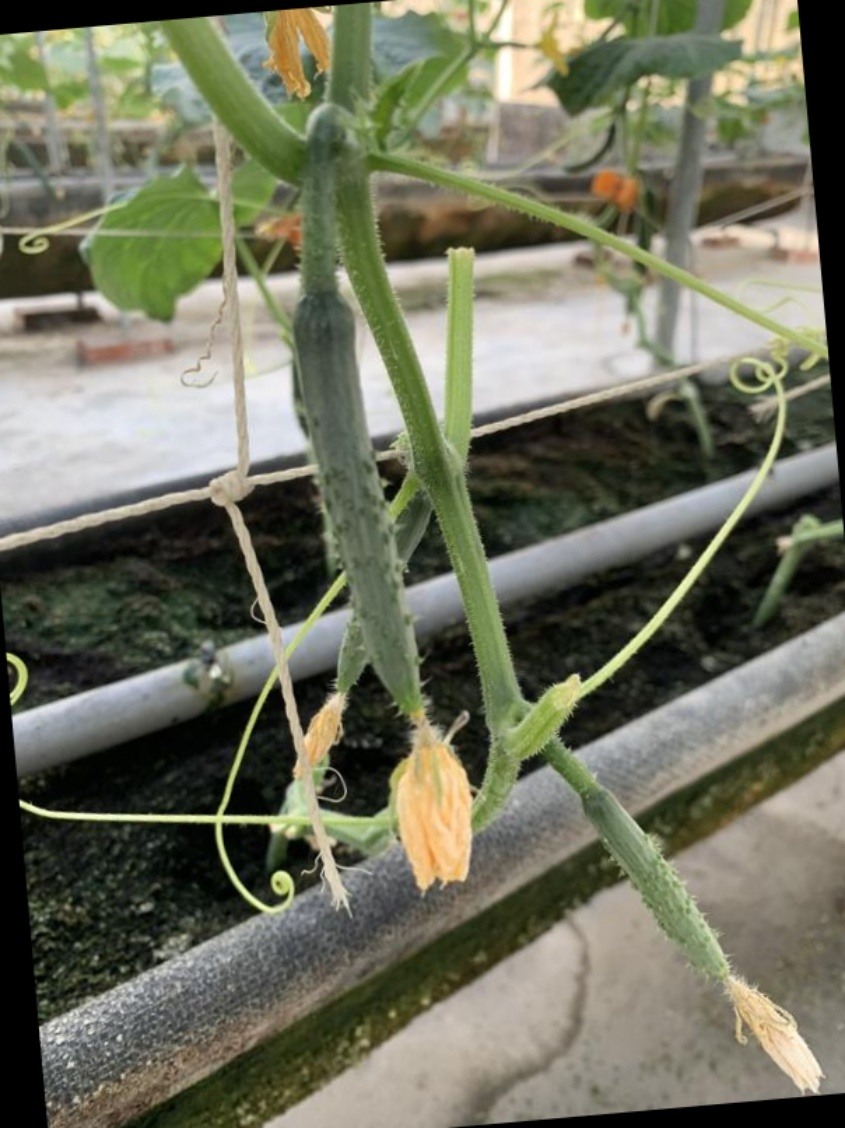growth: (270, 282, 488, 895)
